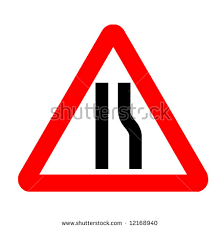Narrow_road: (16, 23, 209, 192)
